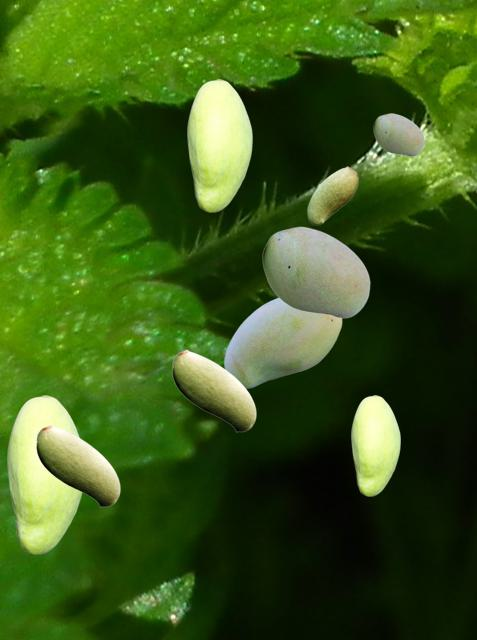green_mango: (7, 395, 82, 553), (224, 298, 341, 387), (262, 226, 369, 317), (187, 79, 251, 211), (172, 349, 255, 431), (36, 424, 119, 506), (351, 395, 399, 495), (307, 166, 357, 224), (373, 113, 423, 155)
